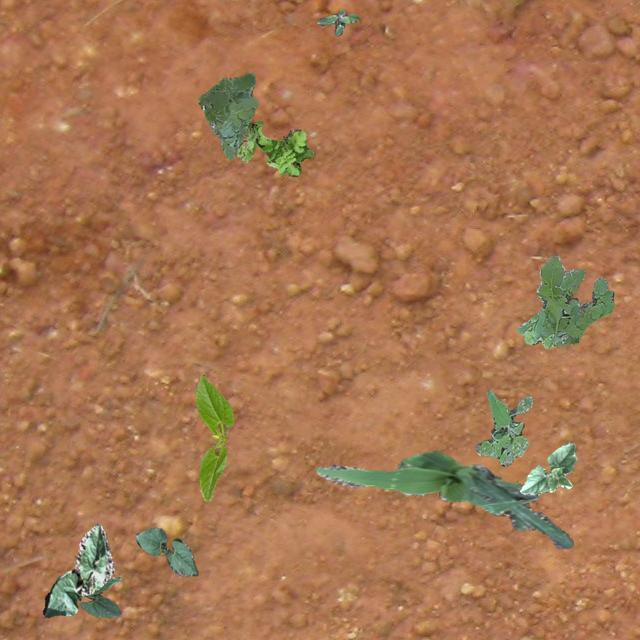crop: (316, 450, 572, 548), (42, 522, 114, 616), (195, 374, 232, 500), (134, 526, 197, 574), (518, 442, 576, 494), (78, 576, 120, 616)
weed: (516, 252, 612, 346), (198, 72, 258, 158), (474, 390, 532, 466), (236, 120, 314, 176), (316, 8, 358, 34)
